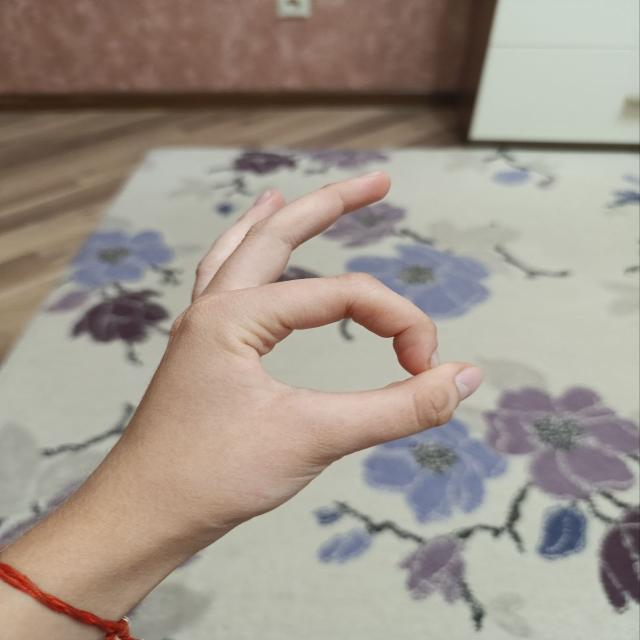o: (148, 168, 478, 500)
